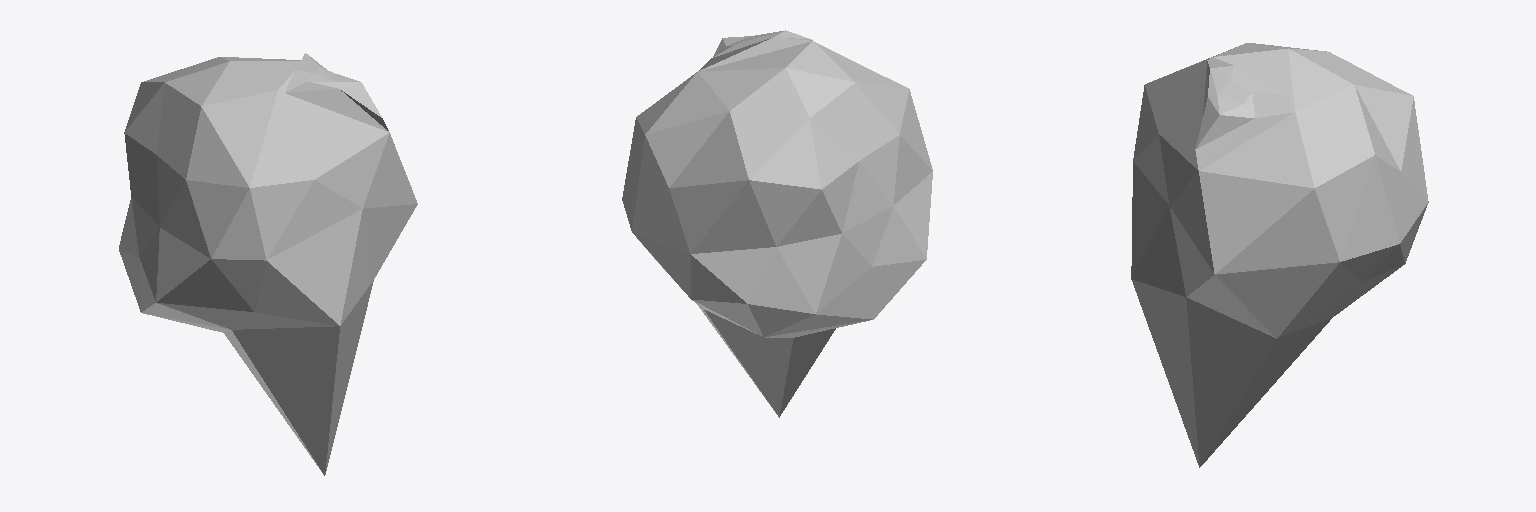
File: quoteunquote-bush.obj
The picture shows the model from 3 angles: view 1: azimuth 30°, elevation 25°; view 2: azimuth 150°, elevation 25°; view 3: azimuth 270°, elevation 25°; orthographic projection.
Visible parts, largest first — view 1: Cube; view 2: Cube; view 3: Cube.
Boxes of the visible parts, <box> form: Cube: <box>119,53,417,475</box>; Cube: <box>622,30,932,417</box>; Cube: <box>1131,43,1428,467</box>.
Bounding box in the file's own units: 2.25 × 3.3 × 2.24.